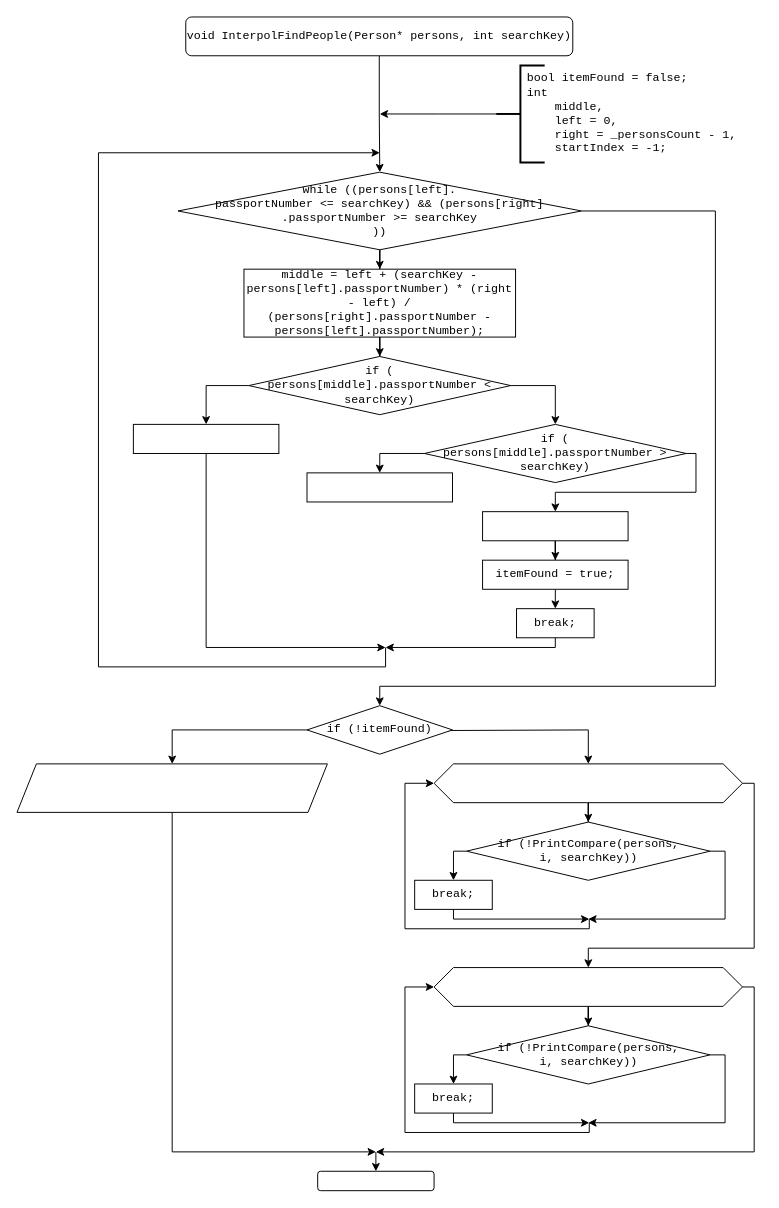
Some shapes in this 779 by 1208 pixel diagram are drawn without their labels. The centre of each missing label's shape, as x and y in pixels:
cout << "The list has no items with the key;" << endl;: [171,787]
for (i = startIndex -1; i >= 0; i--): [588,986]
for (i = startIndex; i < _personsCount; i++): [588,783]
left = middle + 1;: [205,438]
right = millde - 1;: [379,487]
startIndex = middle;: [555,526]
